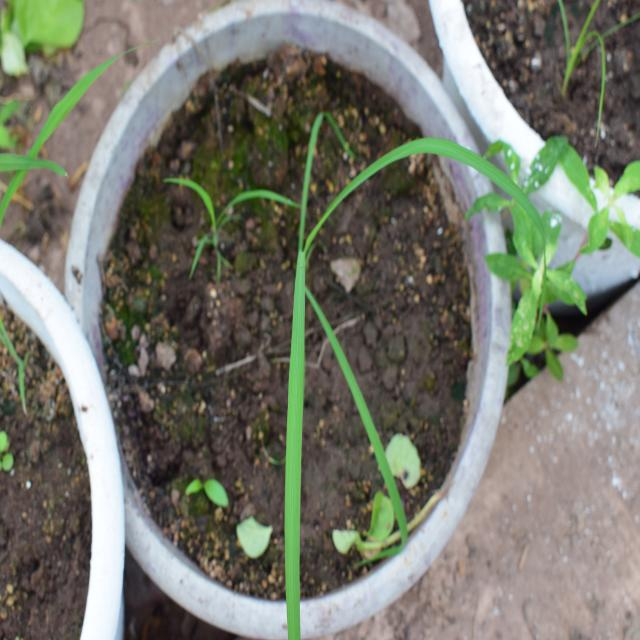barnyard_grass: (222, 114, 466, 612)
